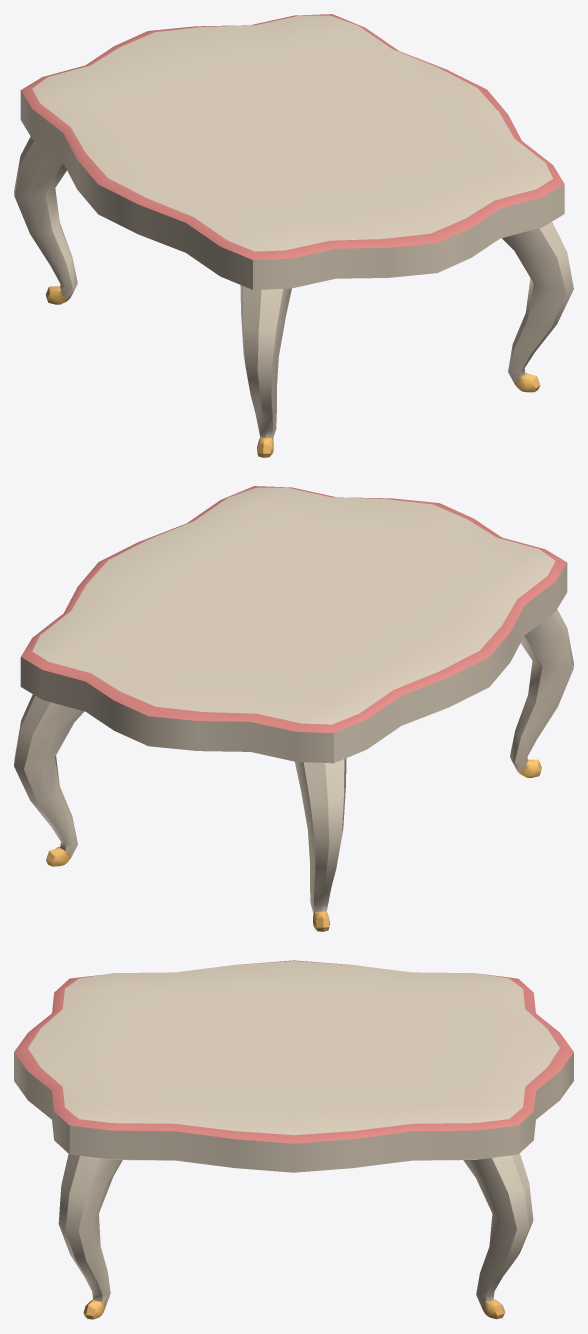
Rendered from teacup table.fbx.
3 renders of one model, top to bottom at view 1: azimuth 30°, elevation 25°; view 2: azimuth 150°, elevation 25°; view 3: azimuth 270°, elevation 25°, orthographic. The views are drawn at different scales.
Visible parts, largest first — view 1: table; view 2: table; view 3: table.
Part boxes in pixels (x1=…): table: x1=14, y1=14, x2=573, y2=457; table: x1=14, y1=486, x2=573, y2=931; table: x1=14, y1=960, x2=573, y2=1319.
Bounding box in the file's own units: 12.84 × 6.74 × 16.58.
